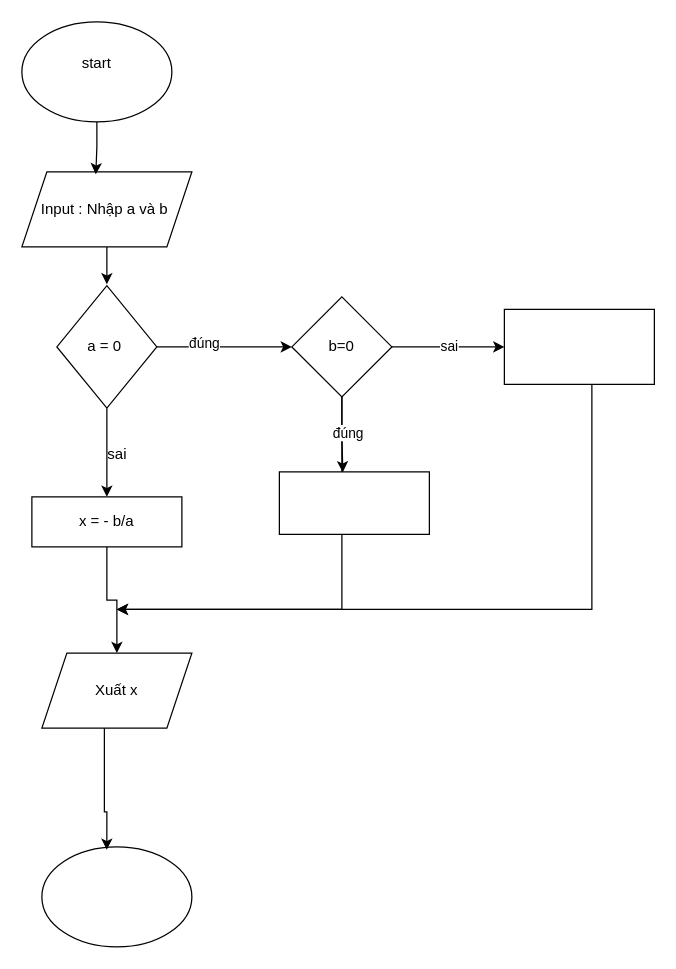
The diagram is 676 pixels wide and 969 high, and some of its shapes have lost their labels. Here are the shapes that lost their labels. From the top down, the centre of each, then its label:
At [578,346]: "phương trình vô nghiệm".
At [353,502]: "phương trình vô số nghiệm".
At [116,896]: "End".
